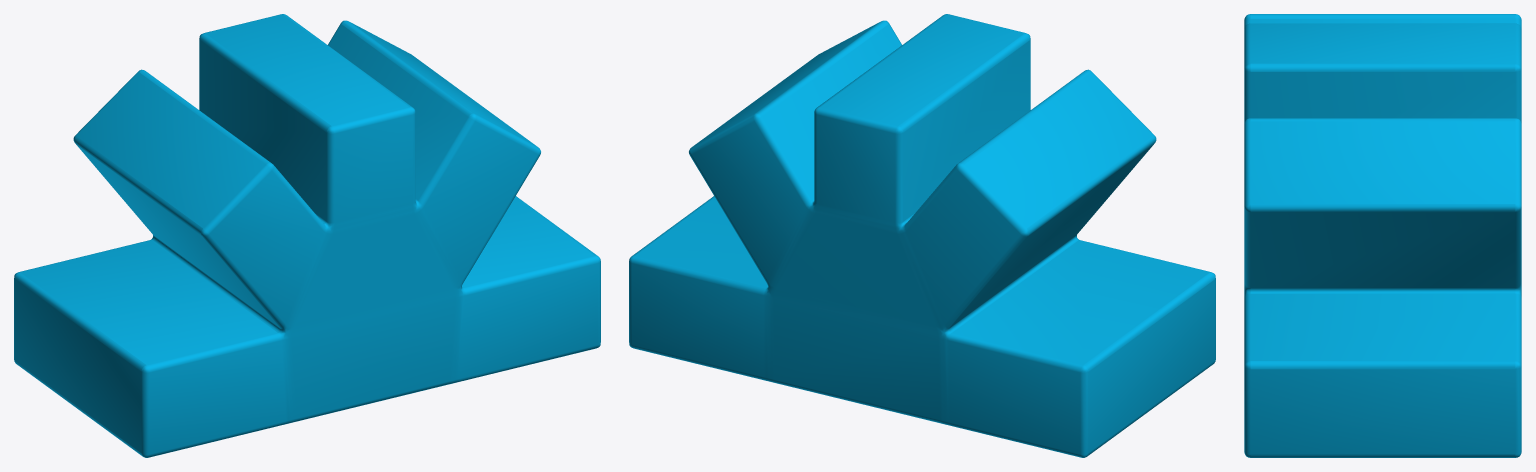
3 renders of one model, left to right at view 1: azimuth 30°, elevation 25°; view 2: azimuth 150°, elevation 25°; view 3: azimuth 270°, elevation 25°, orthographic. The views are drawn at different scales.
Visible parts, largest first — view 1: Playground_WOOD; view 2: Playground_WOOD; view 3: Playground_WOOD.
Part boxes in pixels (x1=…): Playground_WOOD: x1=14, y1=14, x2=600, y2=457; Playground_WOOD: x1=629, y1=14, x2=1215, y2=457; Playground_WOOD: x1=1244, y1=14, x2=1521, y2=457.
Bounding box in the file's own units: 457 × 272 × 229.
